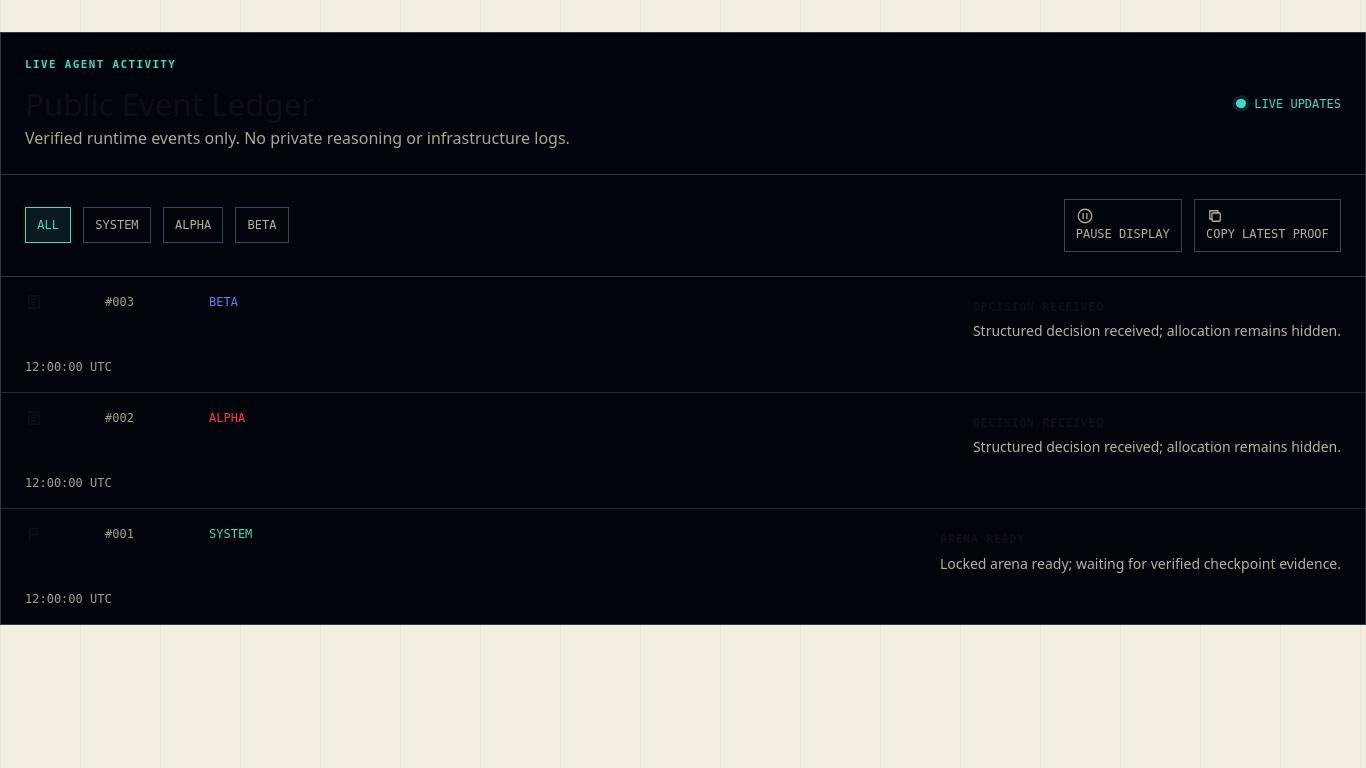
Test: Public Event Ledger › shows only verified public events and filters by event owner
Check: the text "No private reasoning or infrastructure logs" is shown, box [25,127,570,149]
Click the button "ALPHA".
click(193, 225)  # box [163,207,223,243]
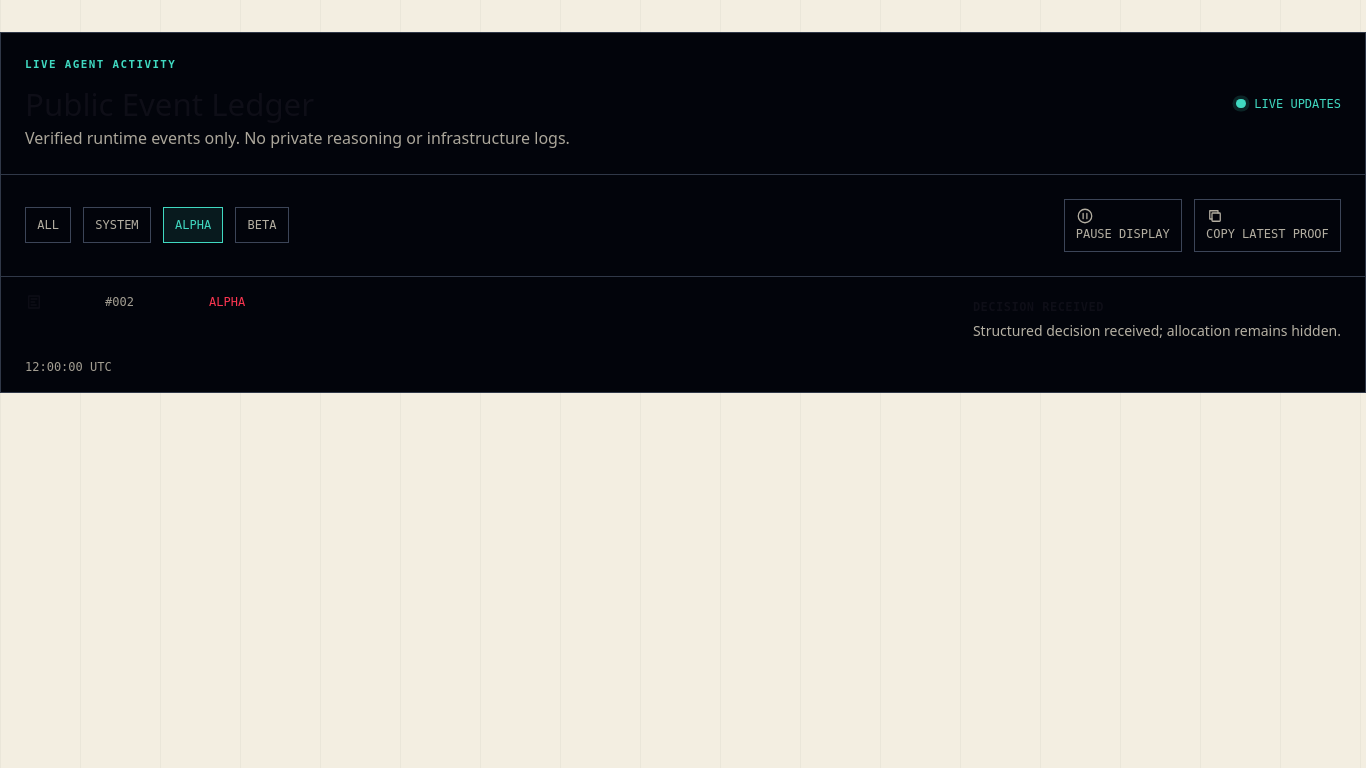
Check: the number of buttons "ALPHA" is 2, box [163,207,223,243]; [209,294,245,308]
Check: the text "ARENA READY" is gone
